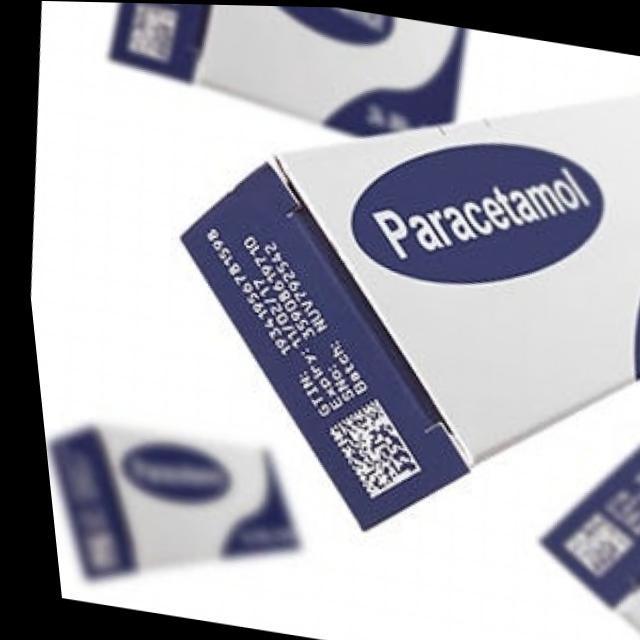datamatrix: (298, 385, 427, 515)
